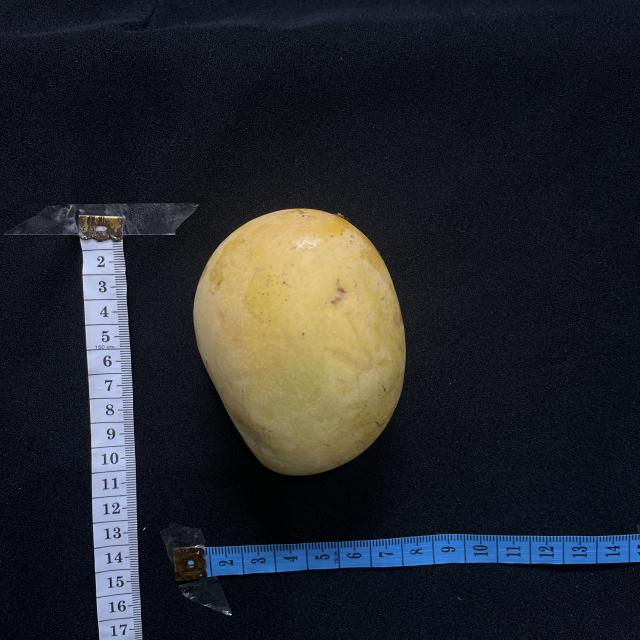Ripe: (194, 209, 405, 475)
